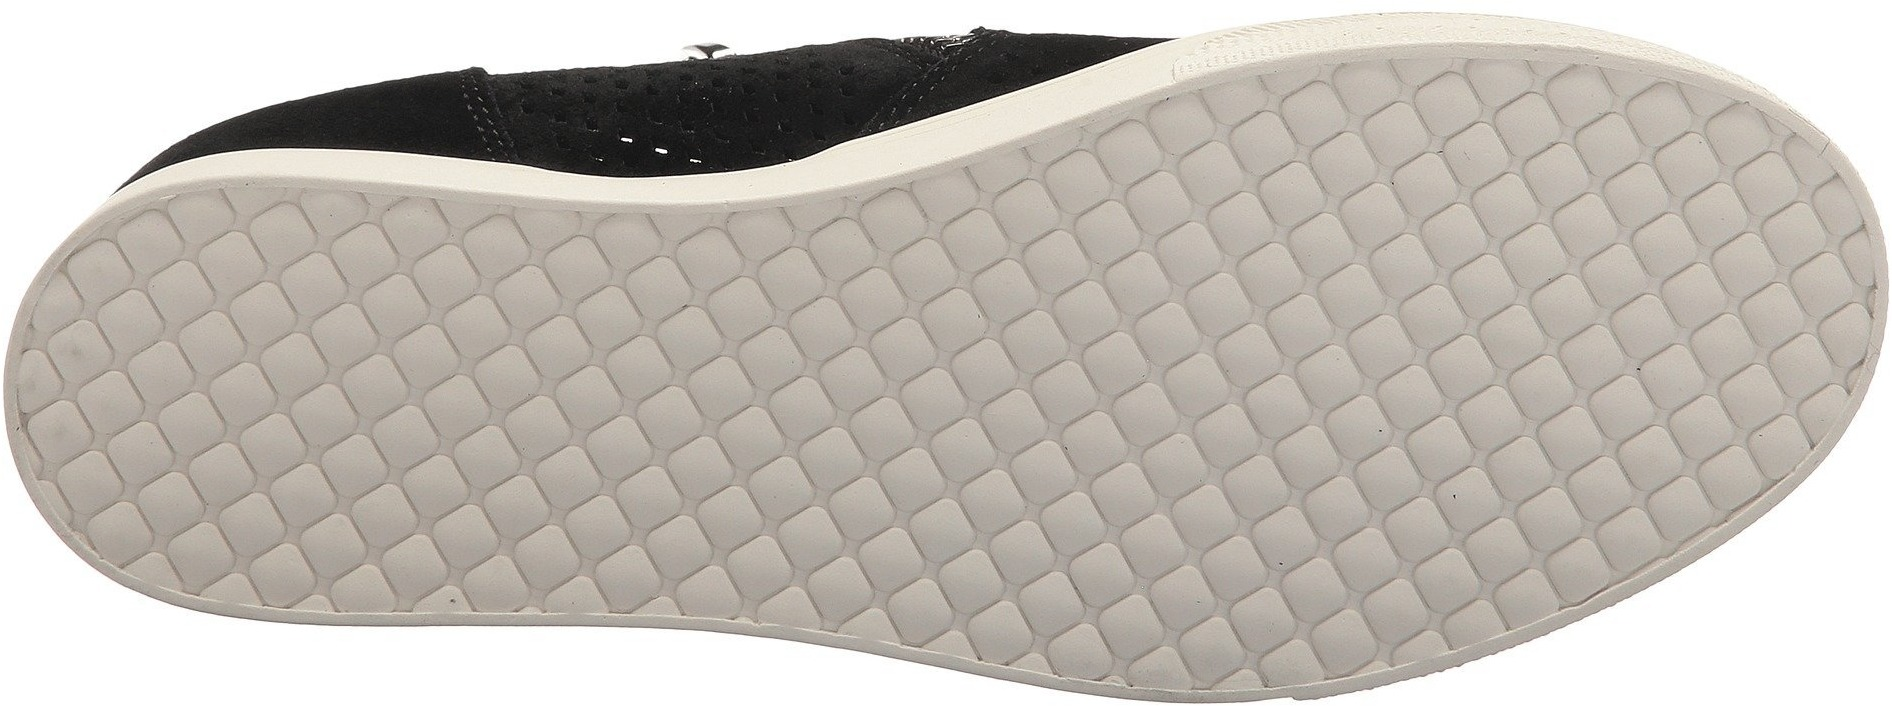quad: (1362, 84, 1688, 428), (363, 210, 682, 560), (1039, 136, 1349, 479), (690, 210, 1027, 485), (69, 258, 339, 533), (1151, 482, 1344, 666), (1362, 431, 1560, 611), (1695, 187, 1869, 384), (952, 490, 1127, 665), (702, 495, 866, 628), (1566, 437, 1683, 549)
